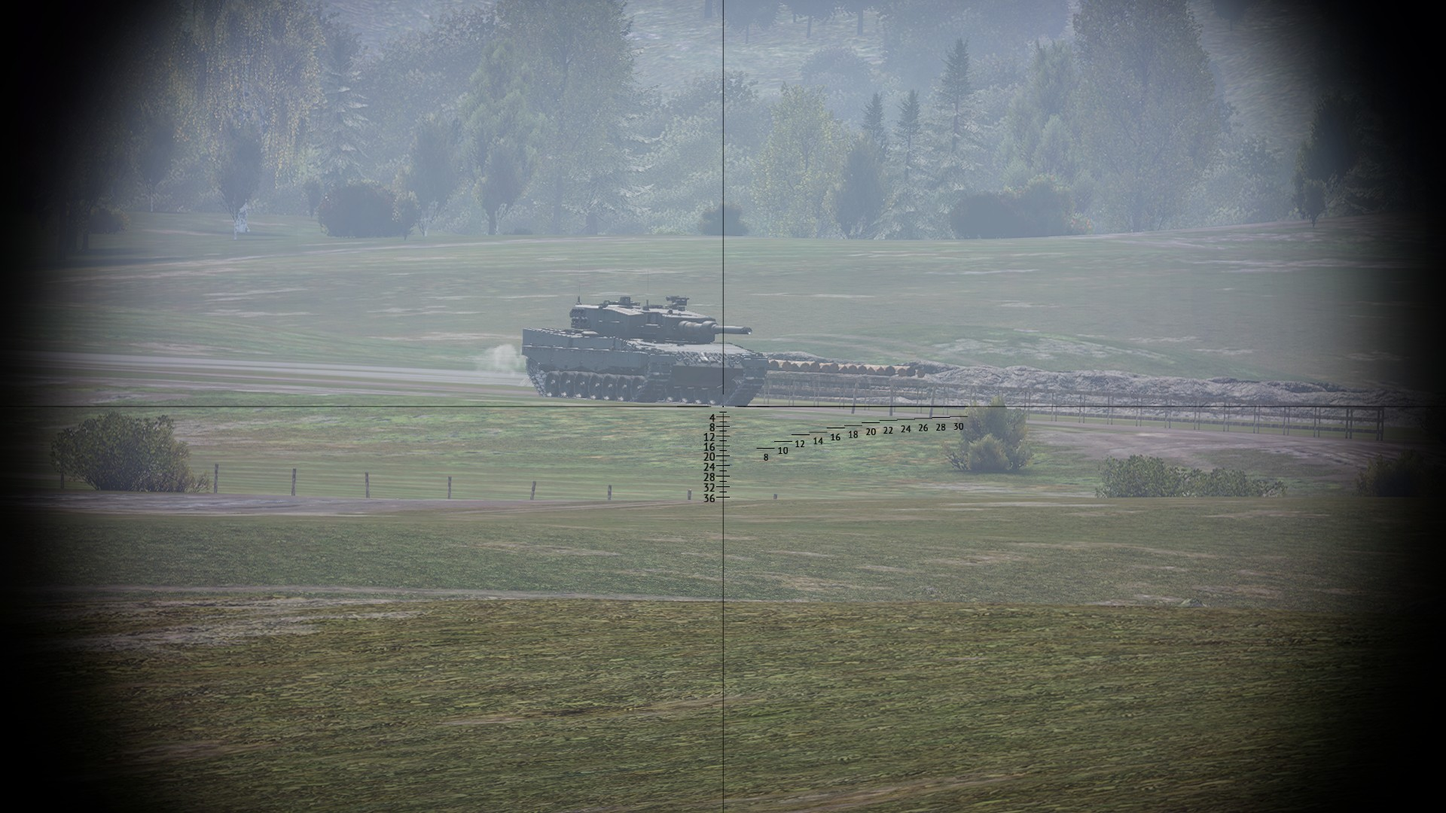leopard2: (521, 294, 767, 407)
